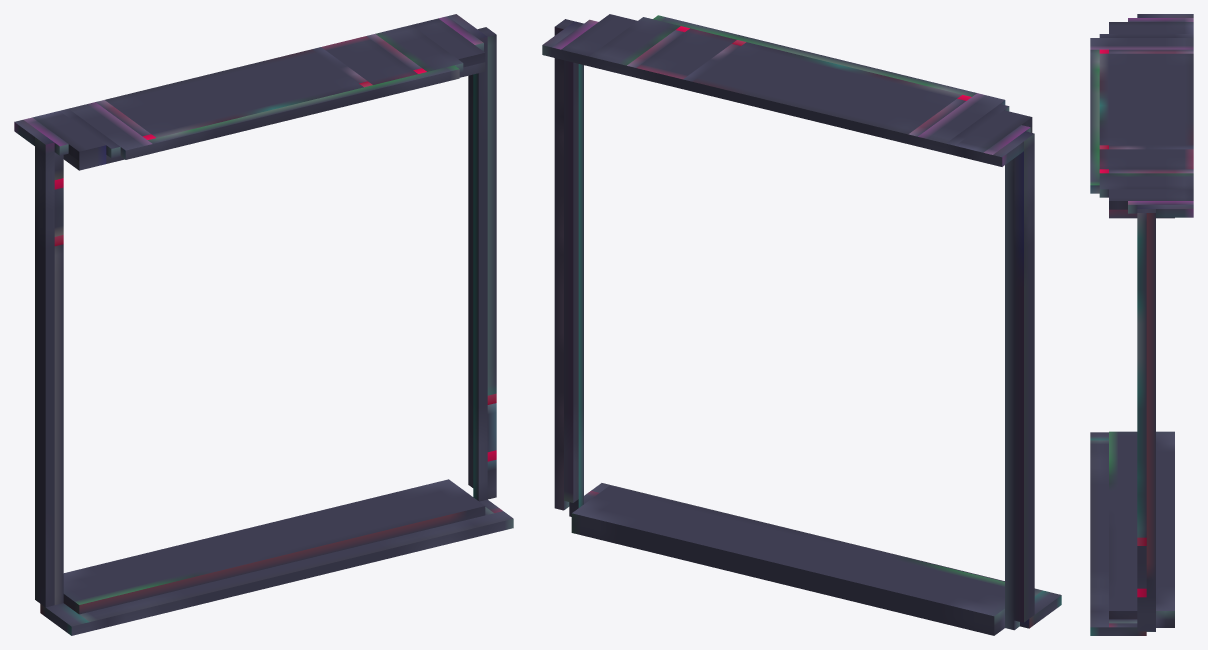
The model's file is Entrance_Frame_A_00.fbx.
3 views of the same model, side by side, from view 1: azimuth 30°, elevation 25°; view 2: azimuth 150°, elevation 25°; view 3: azimuth 270°, elevation 25° (orthographic). The views are drawn at different scales.
Parts seen in each view (by area): view 1: Entrance_Frame_A_00; view 2: Entrance_Frame_A_00; view 3: Entrance_Frame_A_00.
Boxes of the visible parts, <box> form: Entrance_Frame_A_00: <box>14,14,513,635</box>; Entrance_Frame_A_00: <box>542,14,1061,635</box>; Entrance_Frame_A_00: <box>1090,14,1193,635</box>.
Bounding box in the file's own units: 250 × 250 × 55.
